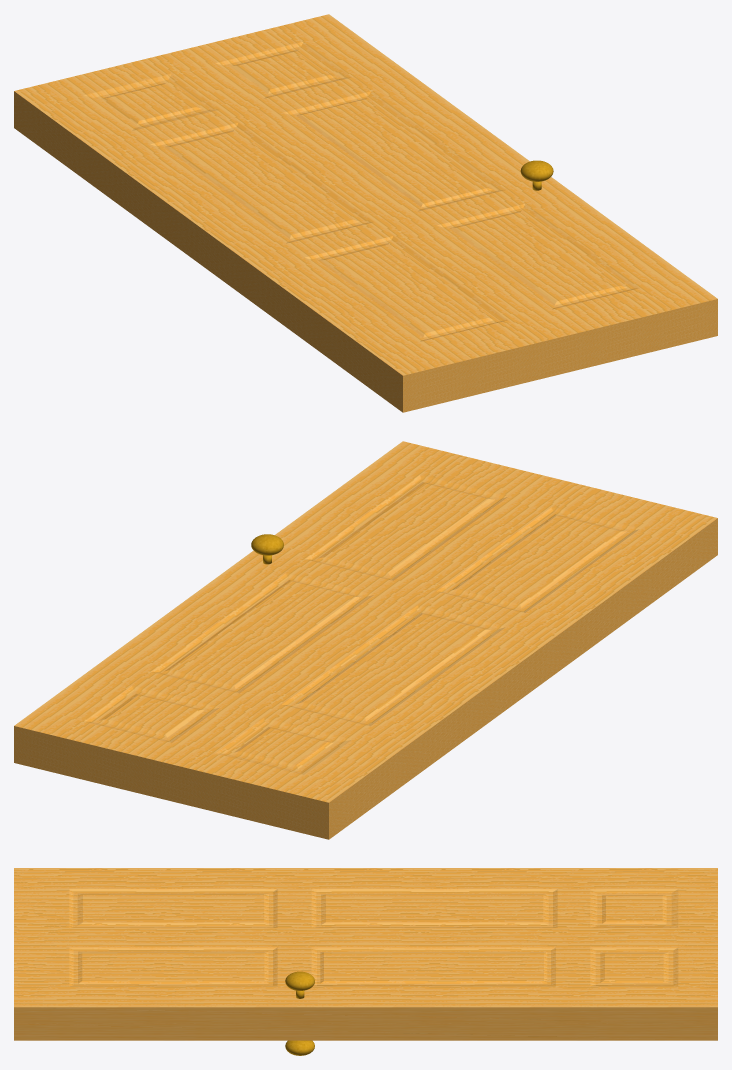
Rendered from door_obj.obj.
3 renders of one model, top to bottom at view 1: azimuth 30°, elevation 25°; view 2: azimuth 150°, elevation 25°; view 3: azimuth 270°, elevation 25°, orthographic. The views are drawn at different scales.
Visible parts, largest first — view 1: Door_Cube, Door.001_Cube.001, Knob_Cylinder; view 2: Door_Cube, Door.001_Cube.001, Knob_Cylinder; view 3: Door_Cube, Door.001_Cube.001, Knob_Cylinder, Knob.001_Cylinder.001.
Part boxes in pixels (x1,y1,x2,y2): Door_Cube: (14,14,717,393); Door.001_Cube.001: (14,109,717,412); Knob_Cylinder: (520,160,553,190); Door_Cube: (14,441,717,820); Door.001_Cube.001: (14,536,717,839); Knob_Cylinder: (251,534,283,564); Door_Cube: (14,868,717,1023); Door.001_Cube.001: (14,1023,717,1040); Knob_Cylinder: (285,971,314,998); Knob.001_Cylinder.001: (285,1040,314,1055).
Bounding box in the file's own units: 4.42 × 1.18 × 9.45.
2 materials, 2 textured.
